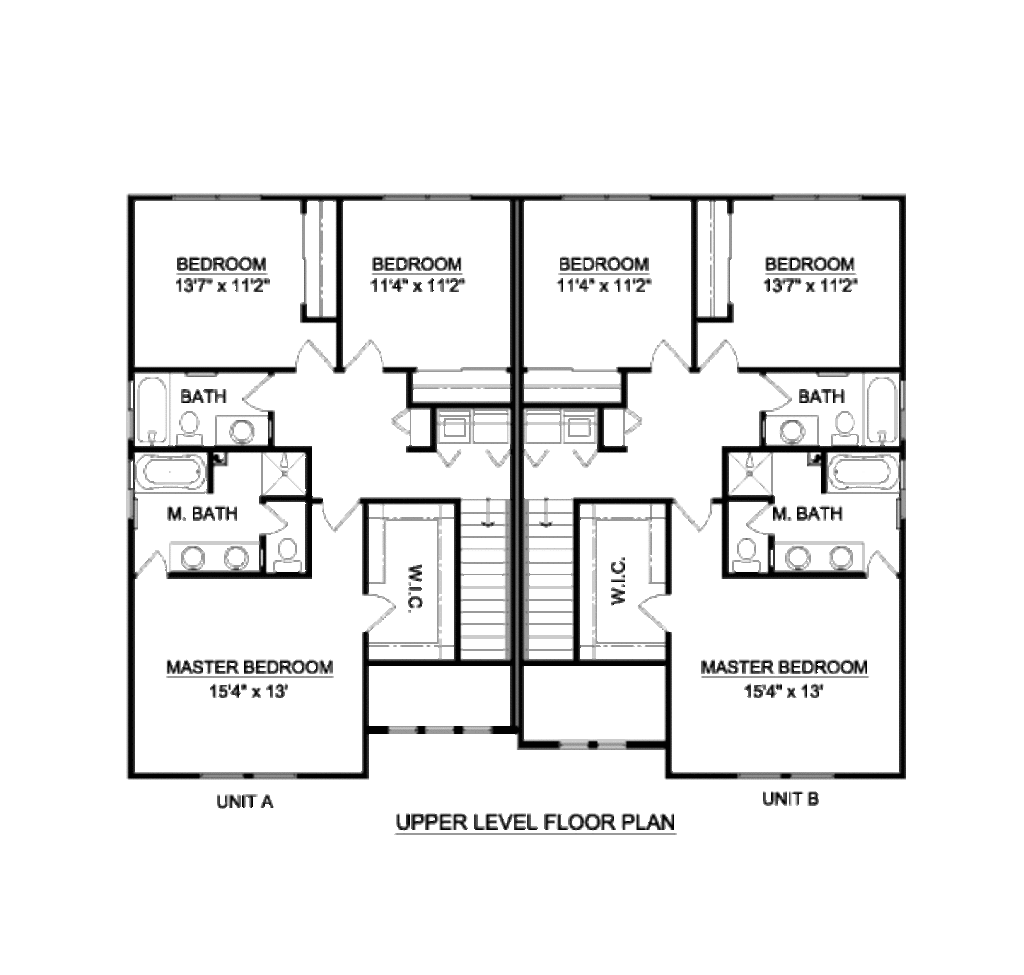door: (311, 493, 369, 539), (234, 366, 289, 412), (634, 583, 682, 633), (291, 331, 346, 374), (668, 492, 718, 537), (860, 541, 905, 590), (695, 329, 745, 373), (361, 586, 405, 634), (649, 332, 695, 376), (340, 337, 399, 371), (753, 367, 794, 414), (125, 540, 169, 582), (747, 492, 782, 542), (253, 498, 295, 535)
large_sink: (267, 526, 317, 576), (727, 535, 766, 577), (175, 406, 209, 451), (831, 401, 859, 452)
small_sink: (776, 535, 859, 572), (175, 536, 258, 571), (207, 410, 274, 447), (760, 418, 825, 446)
stairs: (456, 493, 518, 665), (526, 493, 578, 663)
tub: (821, 444, 908, 493), (866, 363, 908, 458), (131, 368, 171, 449), (134, 449, 210, 490)
window: (383, 720, 502, 737), (198, 768, 304, 784), (556, 732, 629, 748)
